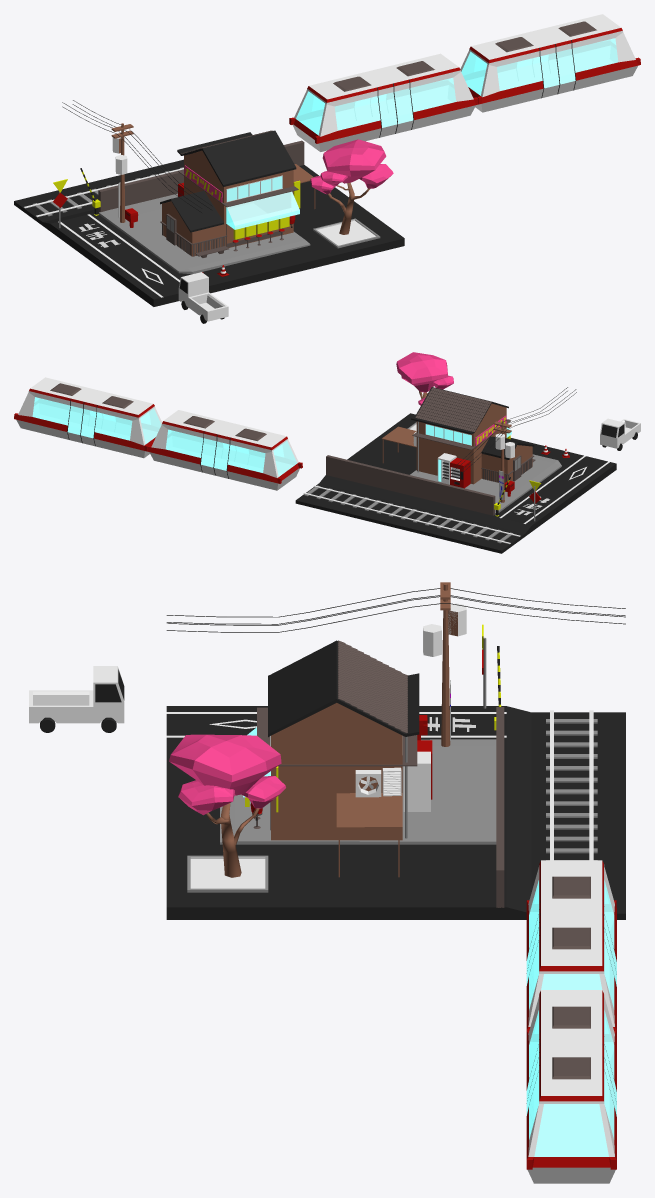
File: paysage9-testTex.gltf
3 views of the same model, one above another, from view 1: azimuth 30°, elevation 25°; view 2: azimuth 150°, elevation 25°; view 3: azimuth 270°, elevation 25° (orthographic). The views are drawn at different scales.
Visible parts, largest first — view 1: wagon, road, house, trottoir.001, fleats, wall, car, earth, cable, roadstrip, three, rebord.002 (+1 smaller); view 2: wagon, road, house, wall, trottoir.001, fleats, car, rails, machineBoisson2, cable, roadstrip, machineBoisson1 (+2 smaller); view 3: road, wagon, house, trottoir.001, fleats, car, earth, cable, wall, machineBoisson1, rails, poteau (+3 smaller).
Boxes of the visible parts, left/top/right/bottom form: wagon: left=289, top=14, right=640, bottom=151; road: left=14, top=159, right=404, bottom=306; house: left=160, top=130, right=315, bottom=256; trottoir.001: left=99, top=193, right=310, bottom=274; fleats: left=310, top=139, right=393, bottom=194; wall: left=98, top=140, right=304, bottom=212; car: left=178, top=272, right=228, bottom=321; earth: left=313, top=218, right=380, bottom=248; cable: left=62, top=100, right=212, bottom=212; roadstrip: left=58, top=214, right=179, bottom=297; three: left=328, top=182, right=370, bottom=234; rebord.002: left=178, top=169, right=298, bottom=207; wagon: left=14, top=377, right=302, bottom=490; road: left=295, top=413, right=616, bottom=553; house: left=381, top=387, right=534, bottom=484; wall: left=326, top=455, right=495, bottom=515; trottoir.001: left=410, top=454, right=561, bottom=514; fleats: left=396, top=352, right=453, bottom=405; car: left=600, top=418, right=640, bottom=448; rails: left=303, top=485, right=520, bottom=544; machineBoisson2: left=450, top=457, right=470, bottom=488; cable: left=453, top=387, right=576, bottom=472; roadstrip: left=499, top=455, right=609, bottom=523; machineBoisson1: left=437, top=453, right=456, bottom=484; road: left=166, top=706, right=625, bottom=919; wagon: left=526, top=860, right=616, bottom=1183; house: left=243, top=640, right=419, bottom=877; trottoir.001: left=220, top=739, right=496, bottom=844; fleats: left=169, top=734, right=285, bottom=815; car: left=29, top=666, right=124, bottom=723; earth: left=187, top=855, right=268, bottom=892; cable: left=166, top=588, right=625, bottom=632; wall: left=496, top=707, right=504, bottom=907; machineBoisson1: left=403, top=751, right=430, bottom=811; rails: left=550, top=710, right=593, bottom=860; poteau: left=441, top=583, right=457, bottom=746.
Size of the model in its own units: 40.95 by 7.04 by 21.43.
11 materials, 1 textured.
